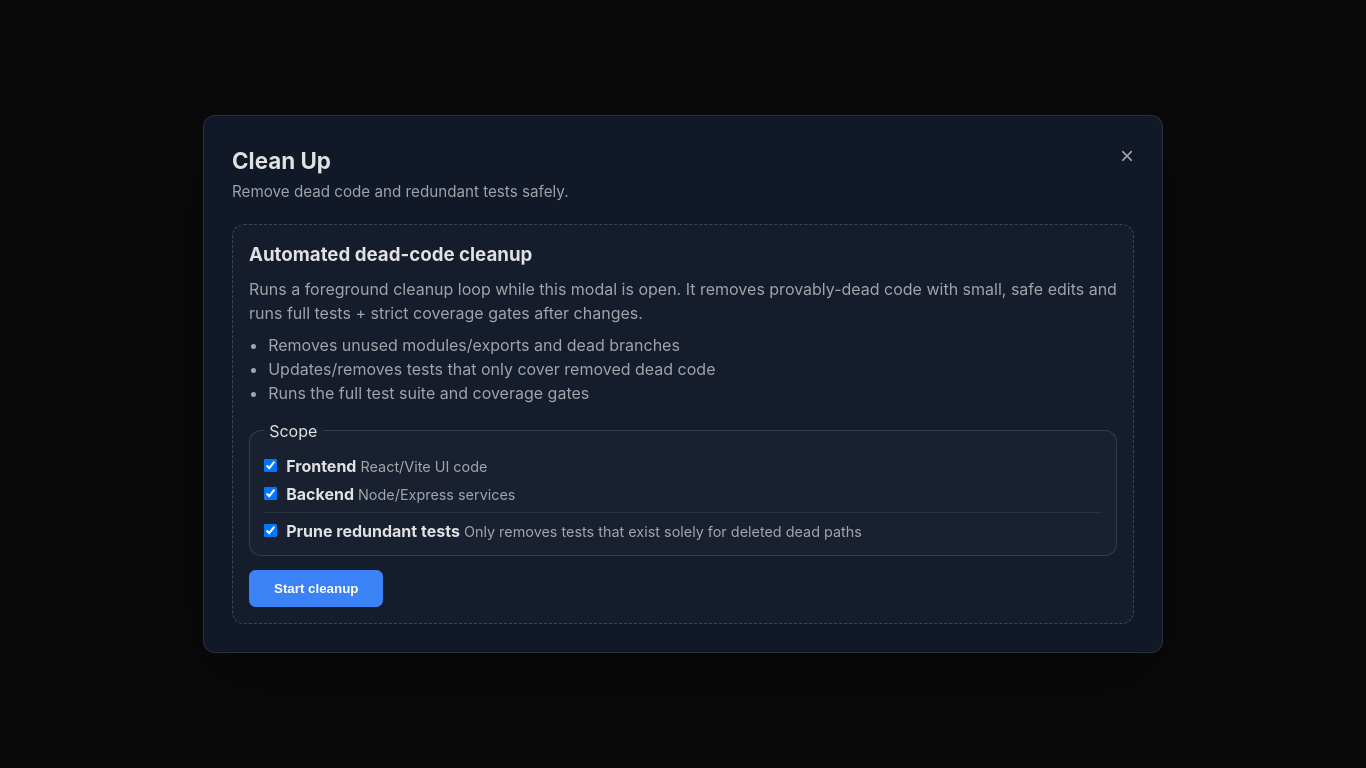
Scenario: CleanUpToolModal › does not prefix streamed test log output with stdout/stderr markers
Click the button with test id "tool-cleanup-start" at (316, 588), box [249,570,383,607]
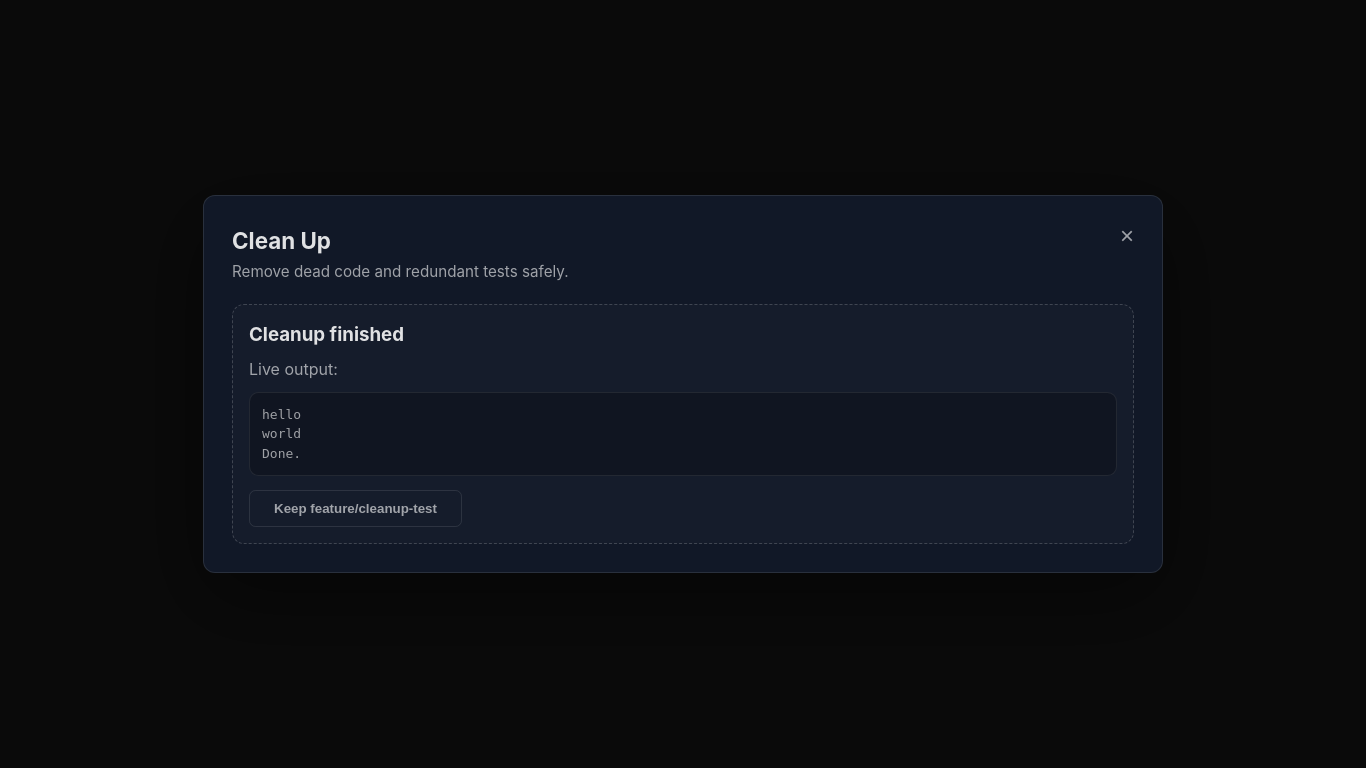
Check: the text with test id "tool-cleanup-progress-log" does not show "stdout |", box [262,406,301,422]
Check: the text with test id "tool-cleanup-progress-log" shows "hello", box [262,406,301,422]
Check: the text with test id "tool-cleanup-progress-log" shows "world", box [262,426,301,441]
